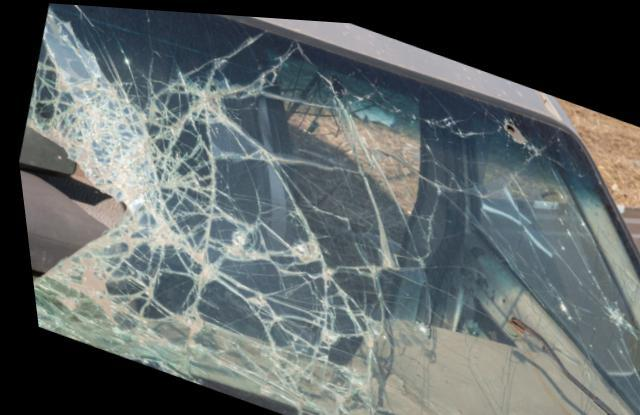glass shatter: (15, 3, 640, 415)
